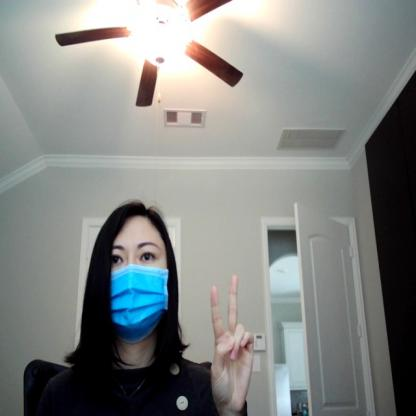two: (202, 271, 258, 415)
